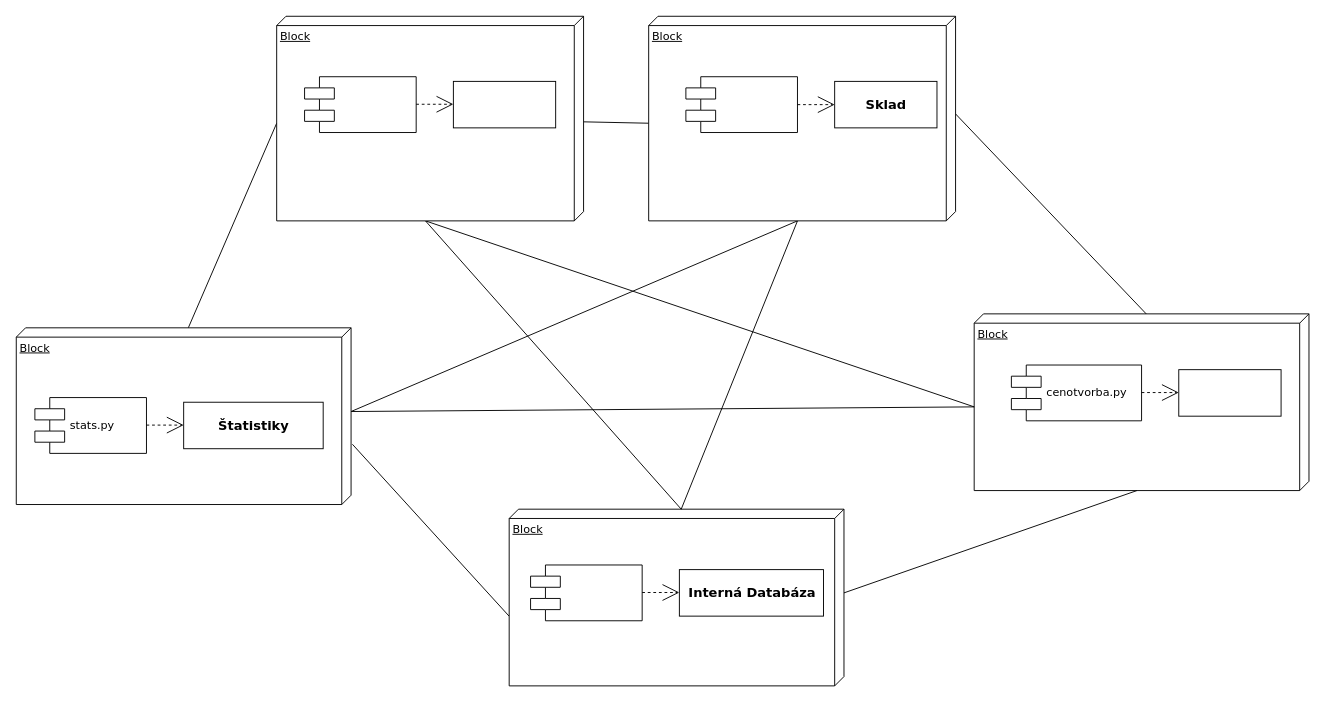
Image size: 1325x702. Some labels were removed from this diagram. The box of each missing label's shape, as (x1, y1, x2, y2) in pixels:
Cenotvorba: (1178, 369, 1281, 416)
interna_db.py: (530, 564, 642, 621)
pokladna.py: (304, 76, 416, 133)
Pokladňa: (452, 80, 556, 128)
sklad.py: (685, 76, 797, 133)
